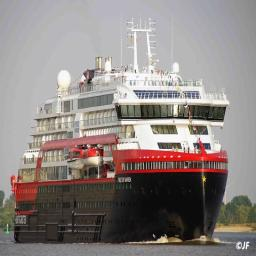cruises: (13, 12, 232, 246)
